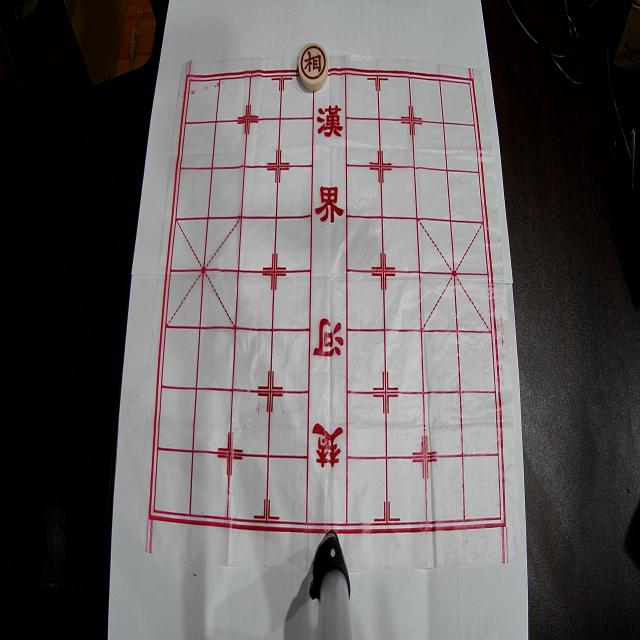red-elephant: (298, 43, 328, 91)
